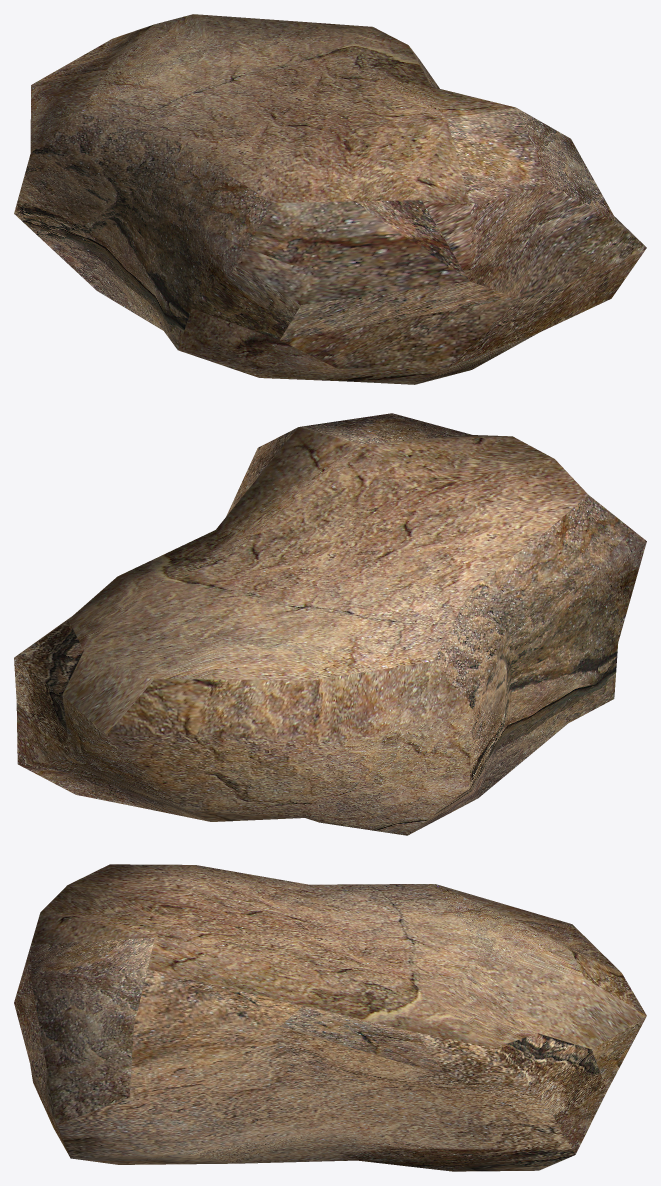
The model's file is Rock 2.FBX.
3 views of the same model, one above another, from view 1: azimuth 30°, elevation 25°; view 2: azimuth 150°, elevation 25°; view 3: azimuth 270°, elevation 25° (orthographic). The views are drawn at different scales.
Visible parts, largest first — view 1: rock 2; view 2: rock 2; view 3: rock 2.
Part boxes in pixels (box(x1,y1,x2,y2)): rock 2: box(14, 14, 646, 384); rock 2: box(14, 413, 646, 835); rock 2: box(14, 864, 646, 1171).
Bounding box in the file's own units: 57.02 × 29.66 × 79.63.
Materials: 1 (1 with a texture image).
